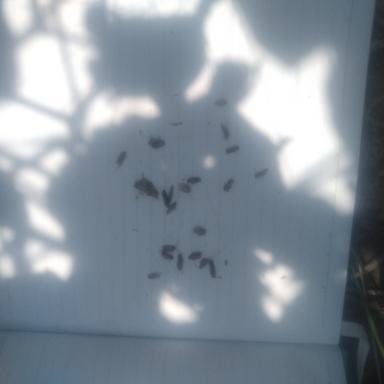pbw: (161, 240, 181, 253), (164, 200, 177, 216), (221, 116, 229, 140), (116, 151, 126, 170), (160, 189, 170, 208), (190, 226, 206, 236), (185, 175, 201, 185), (255, 168, 268, 180), (223, 178, 234, 192), (159, 250, 174, 260), (177, 251, 183, 275), (199, 258, 210, 270), (148, 136, 161, 146), (209, 260, 216, 278), (188, 252, 202, 261), (150, 140, 165, 148), (214, 98, 227, 107), (225, 146, 238, 154), (178, 184, 190, 192), (168, 186, 174, 202), (148, 273, 159, 280)
